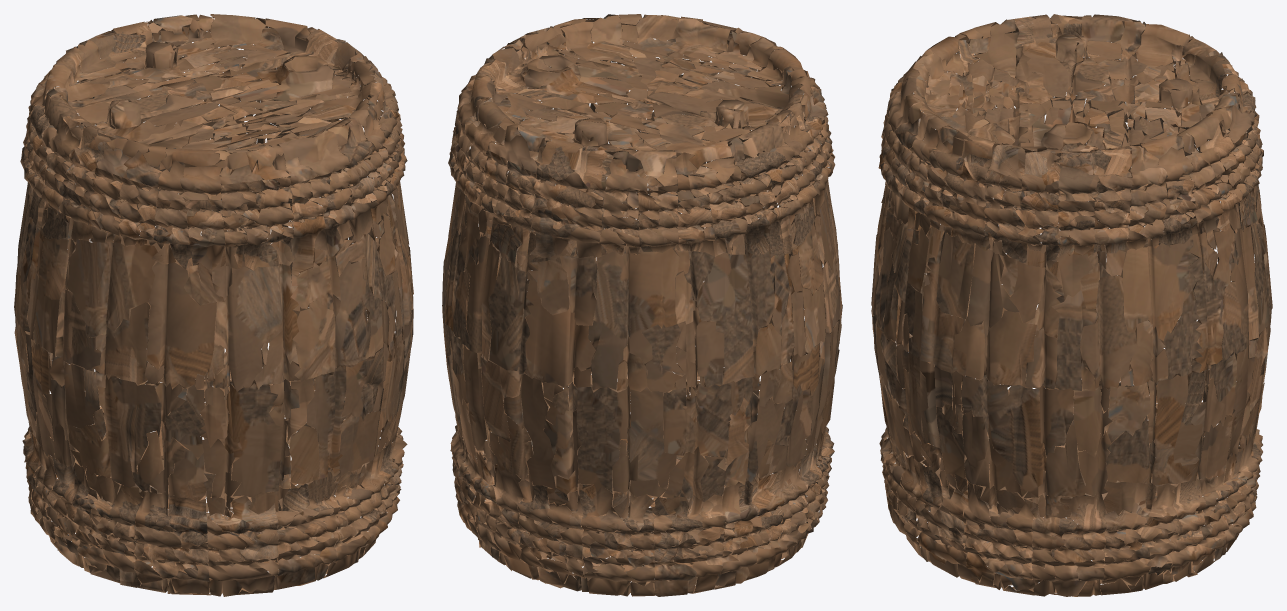
The model's file is SM_WoodenCrate_BlenderOptimized.fbx.
3 views of the same model, side by side, from view 1: azimuth 30°, elevation 25°; view 2: azimuth 150°, elevation 25°; view 3: azimuth 270°, elevation 25° (orthographic).
Visible parts, largest first — view 1: Mesh_0; view 2: Mesh_0; view 3: Mesh_0.
Boxes of the visible parts, box(x1,y1,x2,y2) form: Mesh_0: box(14, 14, 413, 596); Mesh_0: box(442, 14, 842, 596); Mesh_0: box(871, 14, 1272, 596).
Size of the model in its own units: 155 by 192 by 156.
